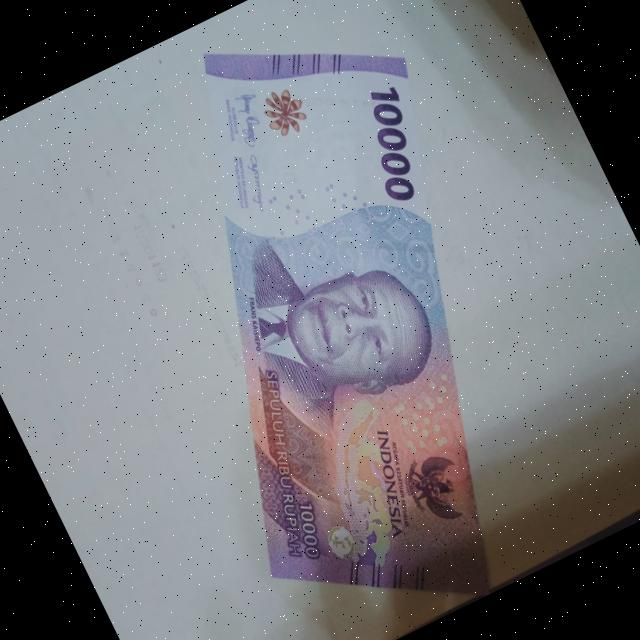10K: (39, 0, 635, 640)
